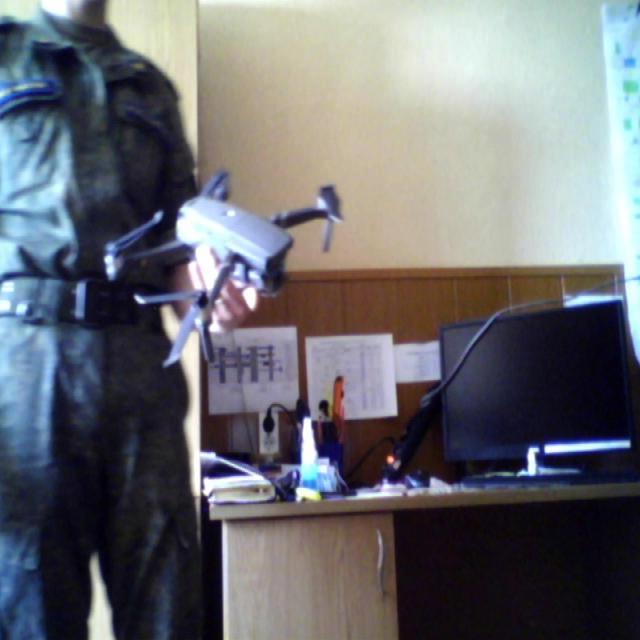drone: (99, 169, 348, 366)
